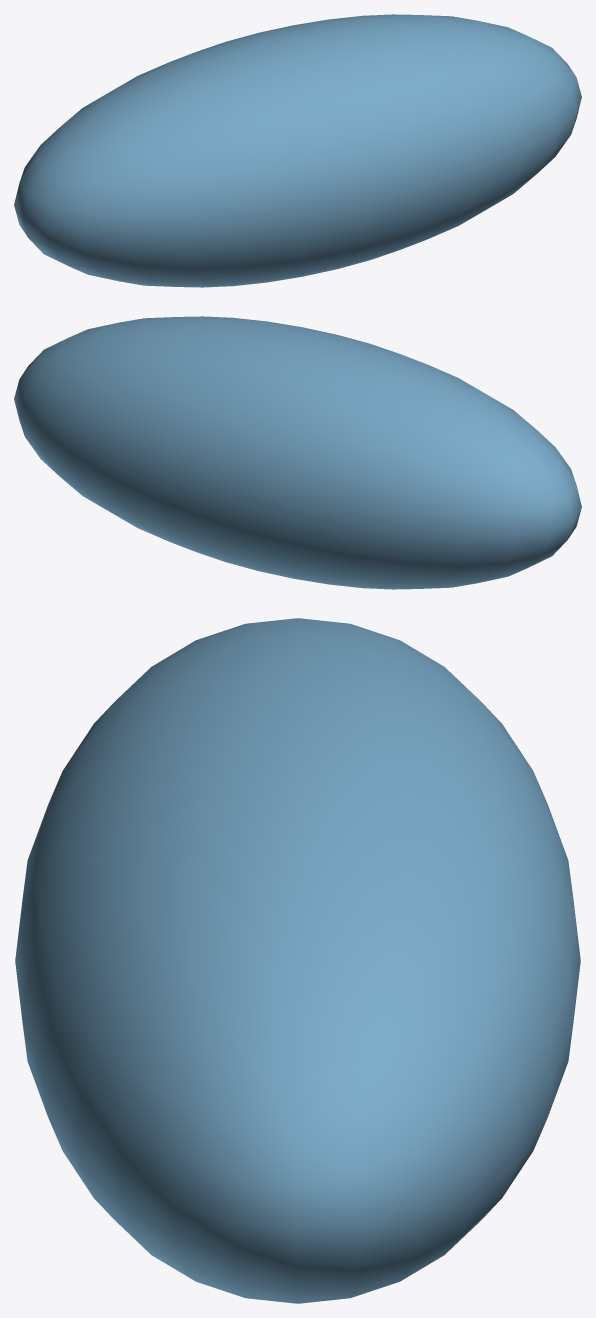
Rendered from tank.glb.
3 views of the same model, one above another, from view 1: azimuth 30°, elevation 25°; view 2: azimuth 150°, elevation 25°; view 3: azimuth 270°, elevation 25° (orthographic). The views are drawn at different scales.
Visible parts, largest first — view 1: S51_Tank; view 2: S51_Tank; view 3: S51_Tank.
Part boxes in pixels (x1=…): S51_Tank: x1=14, y1=14, x2=581, y2=287; S51_Tank: x1=14, y1=316, x2=581, y2=589; S51_Tank: x1=15, y1=618, x2=580, y2=1303.
Bounding box in the file's own units: 1.82 × 0.68 × 0.81.
